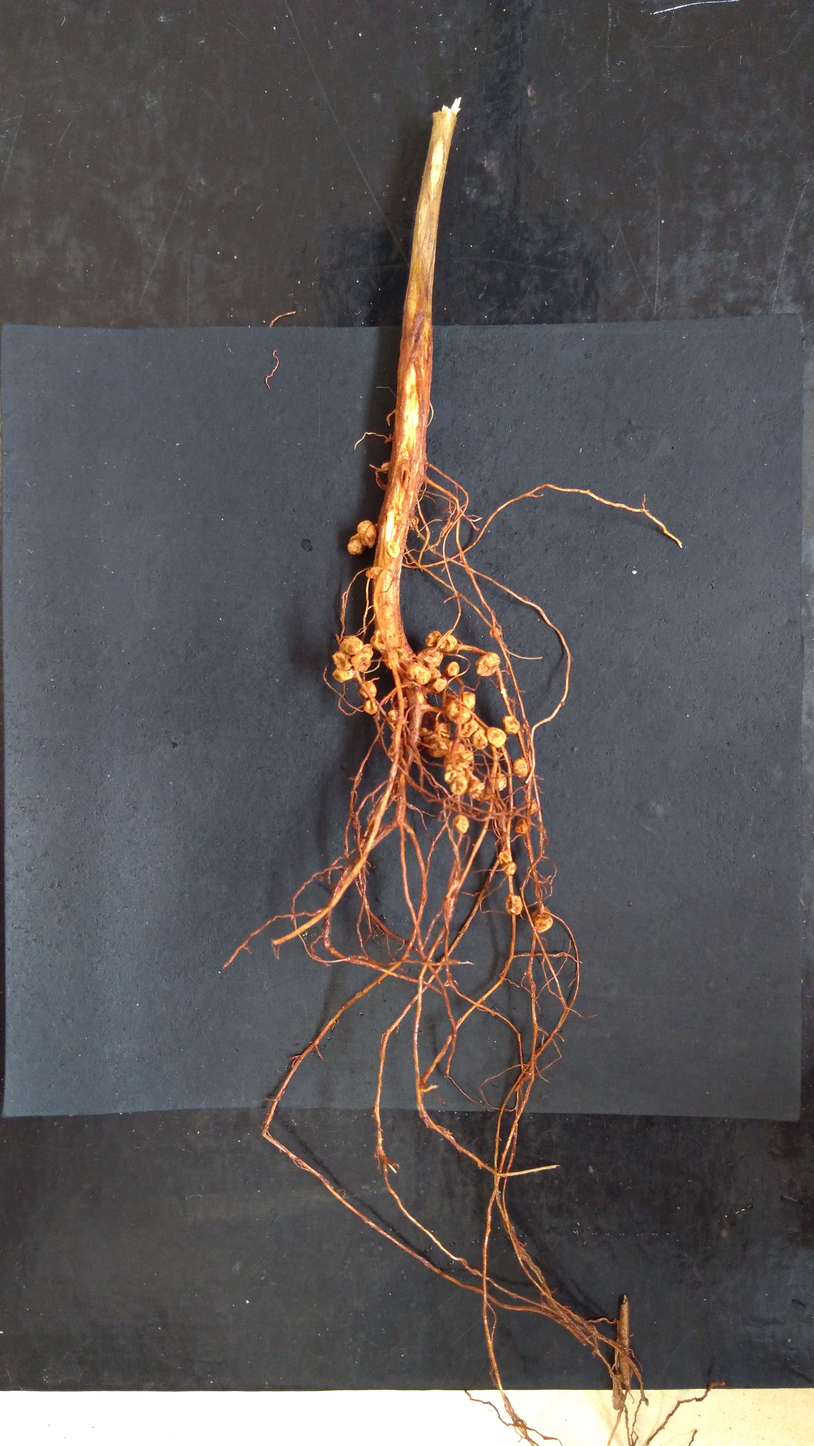nodule: (441, 743, 477, 775), (419, 726, 453, 759), (473, 649, 505, 680), (440, 696, 472, 727), (531, 902, 554, 938), (484, 721, 508, 754), (496, 711, 523, 738), (503, 889, 527, 918), (355, 519, 377, 549), (406, 661, 431, 687), (337, 635, 365, 657), (351, 647, 374, 673), (490, 770, 511, 796), (510, 754, 529, 781), (456, 717, 479, 739), (421, 649, 444, 669), (357, 678, 377, 699), (331, 651, 352, 671), (382, 650, 400, 673), (331, 666, 355, 683), (449, 814, 469, 834), (443, 765, 465, 783), (460, 690, 478, 712), (370, 628, 385, 654), (423, 629, 443, 648), (439, 634, 459, 653), (471, 729, 489, 750), (345, 539, 367, 556), (468, 778, 485, 800), (510, 816, 528, 836), (384, 539, 401, 560), (449, 776, 468, 794), (528, 797, 546, 815), (434, 721, 452, 739), (362, 699, 380, 716), (431, 677, 448, 694), (444, 660, 460, 678), (364, 565, 381, 579), (502, 861, 517, 875), (498, 850, 512, 864), (387, 708, 399, 722), (380, 460, 391, 474)
